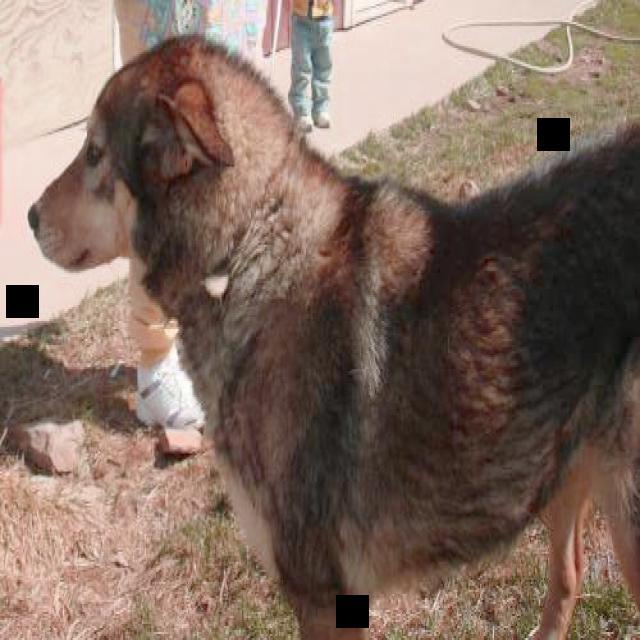adult_dog: (17, 26, 640, 639)
